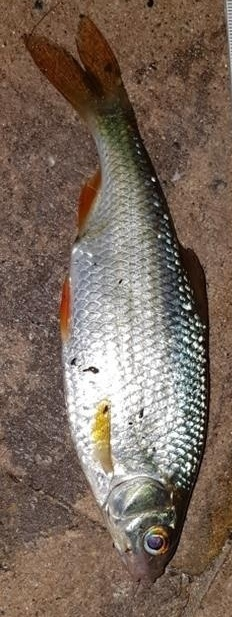Rutilus rutilus: (20, 20, 212, 597)
